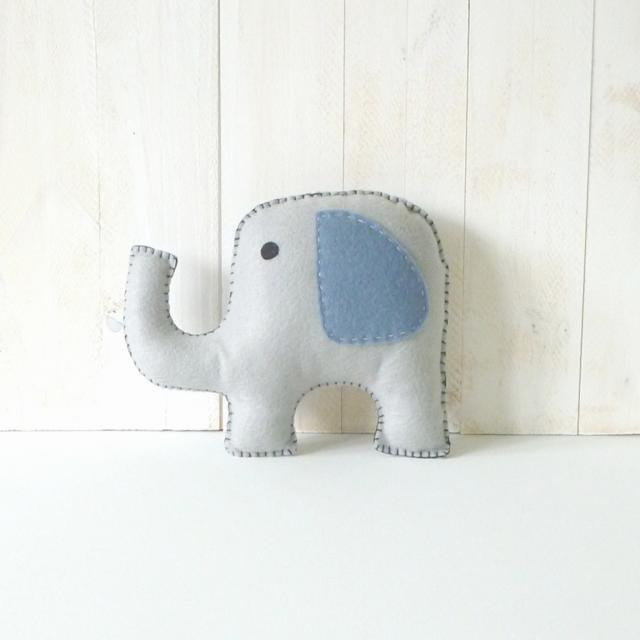elephant: (98, 180, 454, 438)
